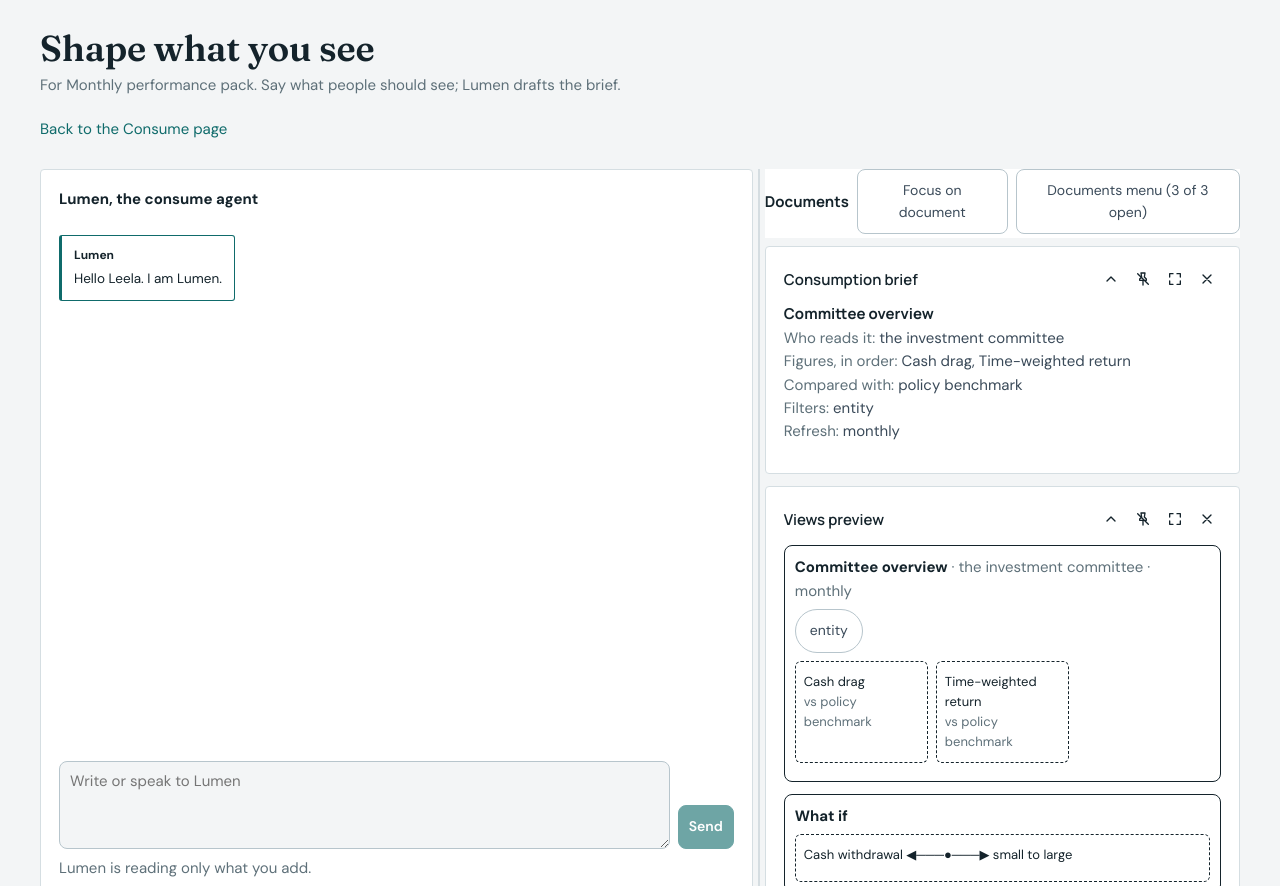
Test case: a refused message says so in plain words
This screenshot has width=1280, height=886.
Type "hello" into the text box named "Your message". click: (364, 805)
box: x1=59 y1=761 x2=670 y2=849
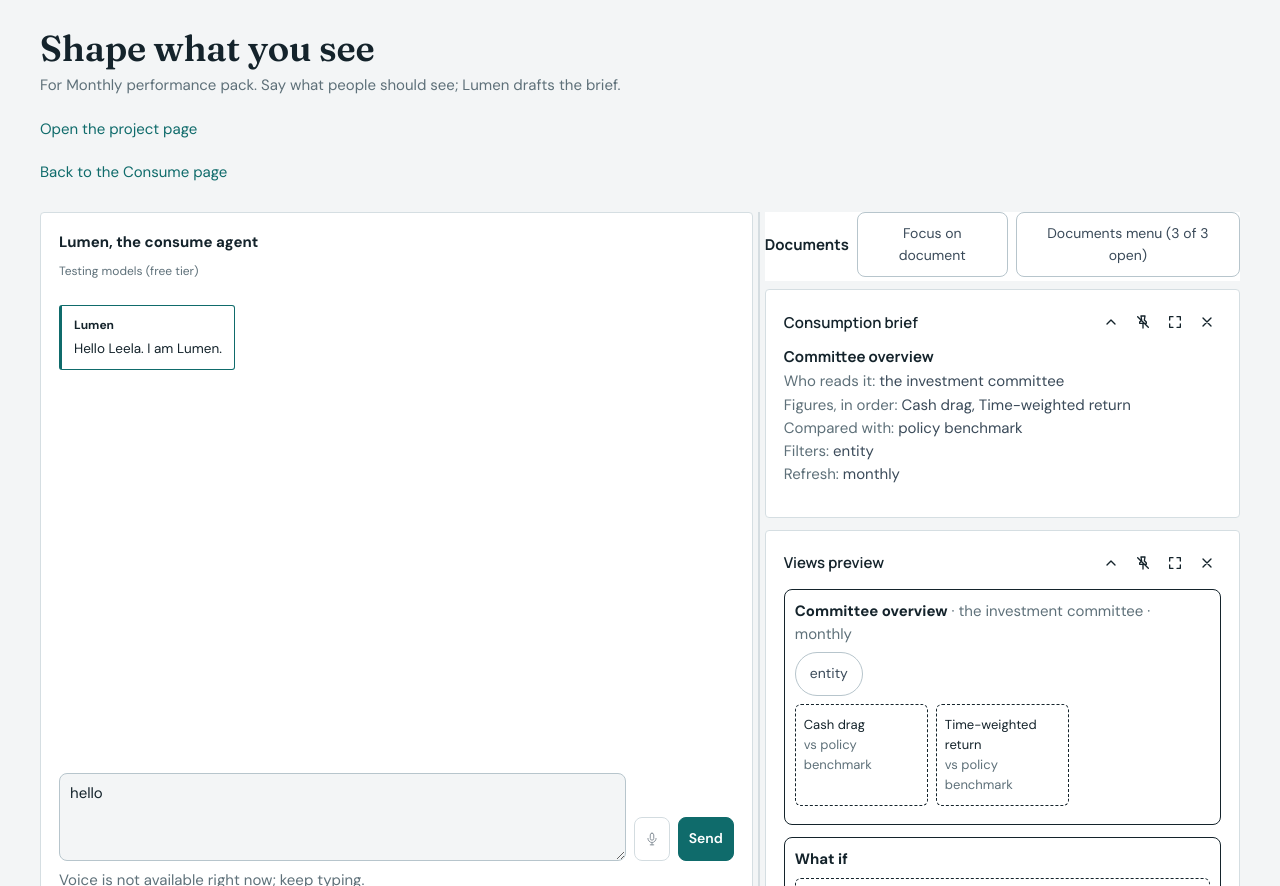
Click the button "Send". click: (706, 839)
box: x1=678 y1=817 x2=734 y2=861
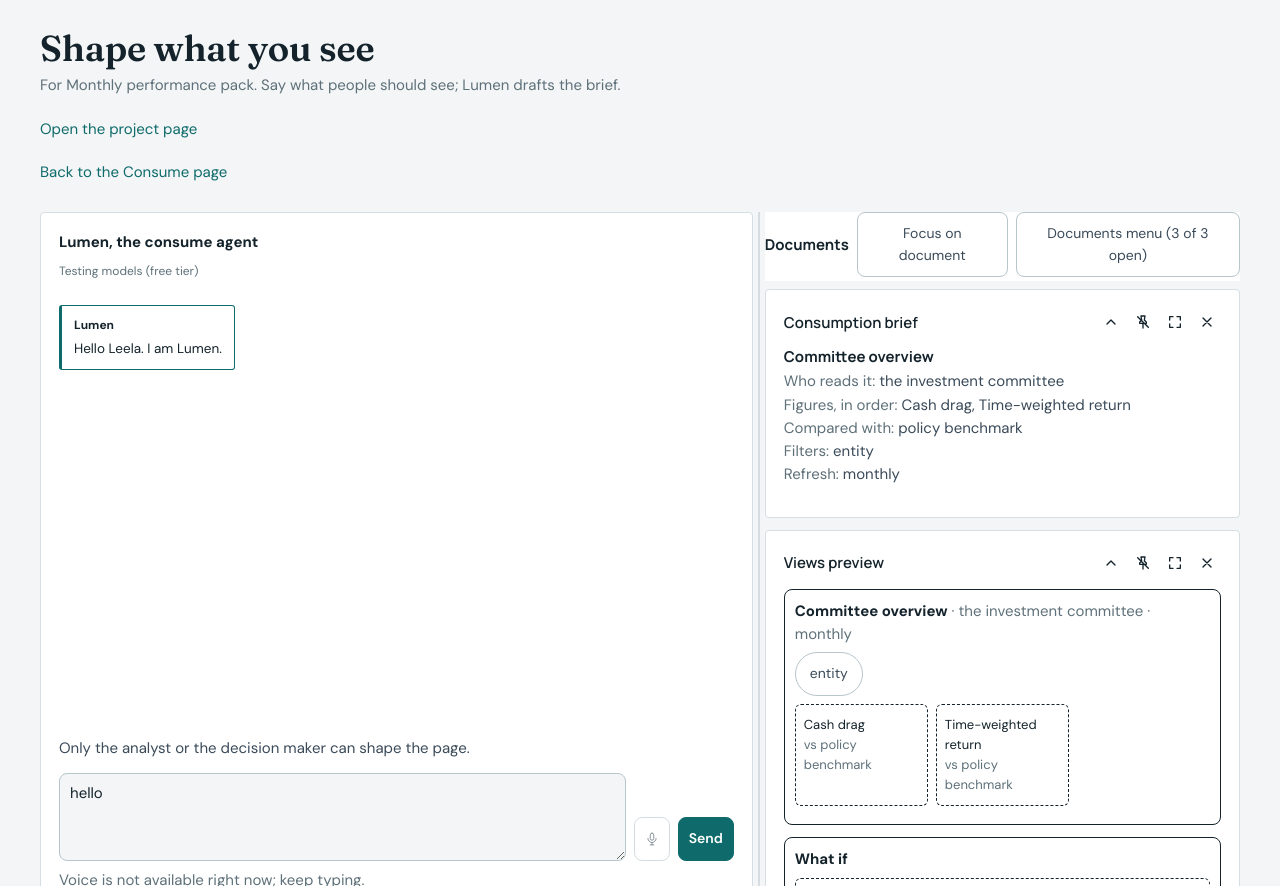
Expected: the message shows "Only the analyst or the decision maker", x1=59 y1=738 x2=470 y2=758
